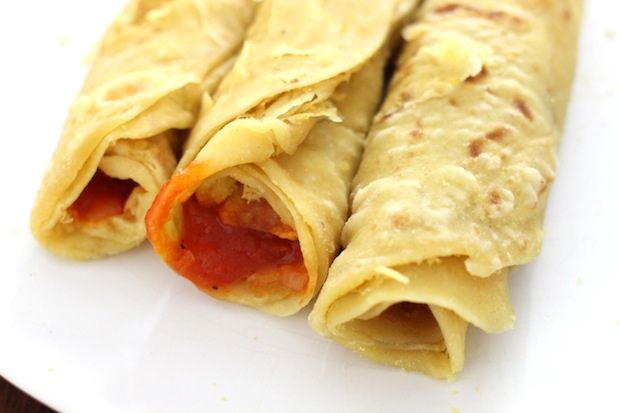Farata: (54, 4, 539, 355)
